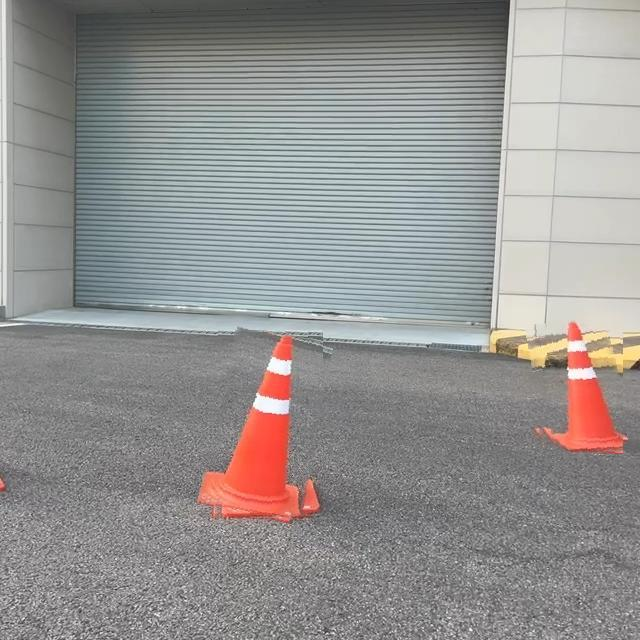fallen_object: (147, 322, 332, 525), (477, 310, 621, 457)
